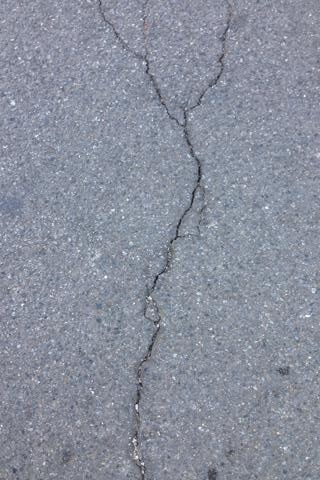A: (93, 2, 237, 480)
